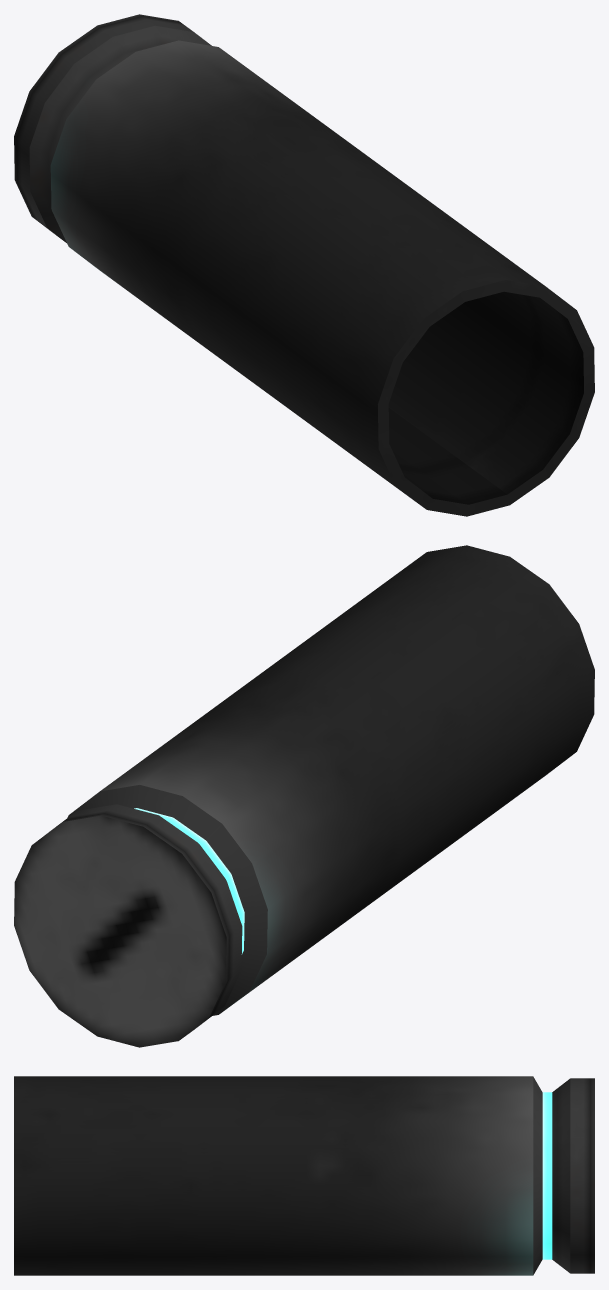
File: BulletShell.fbx
3 views of the same model, one above another, from view 1: azimuth 30°, elevation 25°; view 2: azimuth 150°, elevation 25°; view 3: azimuth 270°, elevation 25° (orthographic). The views are drawn at different scales.
Parts seen in each view (by area): view 1: Cylinder.005; view 2: Cylinder.005; view 3: Cylinder.005.
Boxes of the visible parts, x1,y1,x2,y2 form: Cylinder.005: (14,14,594,516); Cylinder.005: (14,545,594,1047); Cylinder.005: (14,1076,594,1275).
Size of the model in its own units: 3.26 by 3.26 by 9.51.
